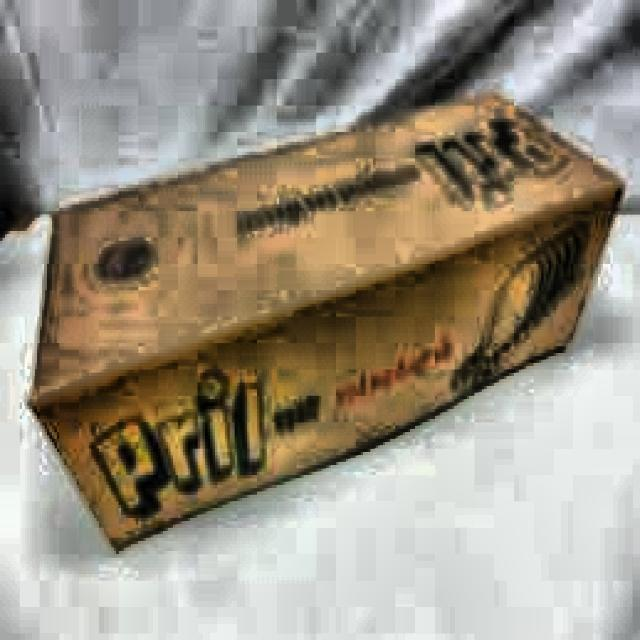cardboard: (24, 86, 626, 554)
